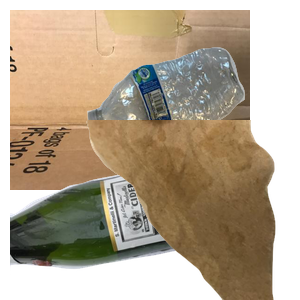cardboard: (10, 10, 250, 190)
glass: (10, 154, 246, 300)
plastic: (85, 45, 300, 175)
trash: (84, 120, 300, 300)
